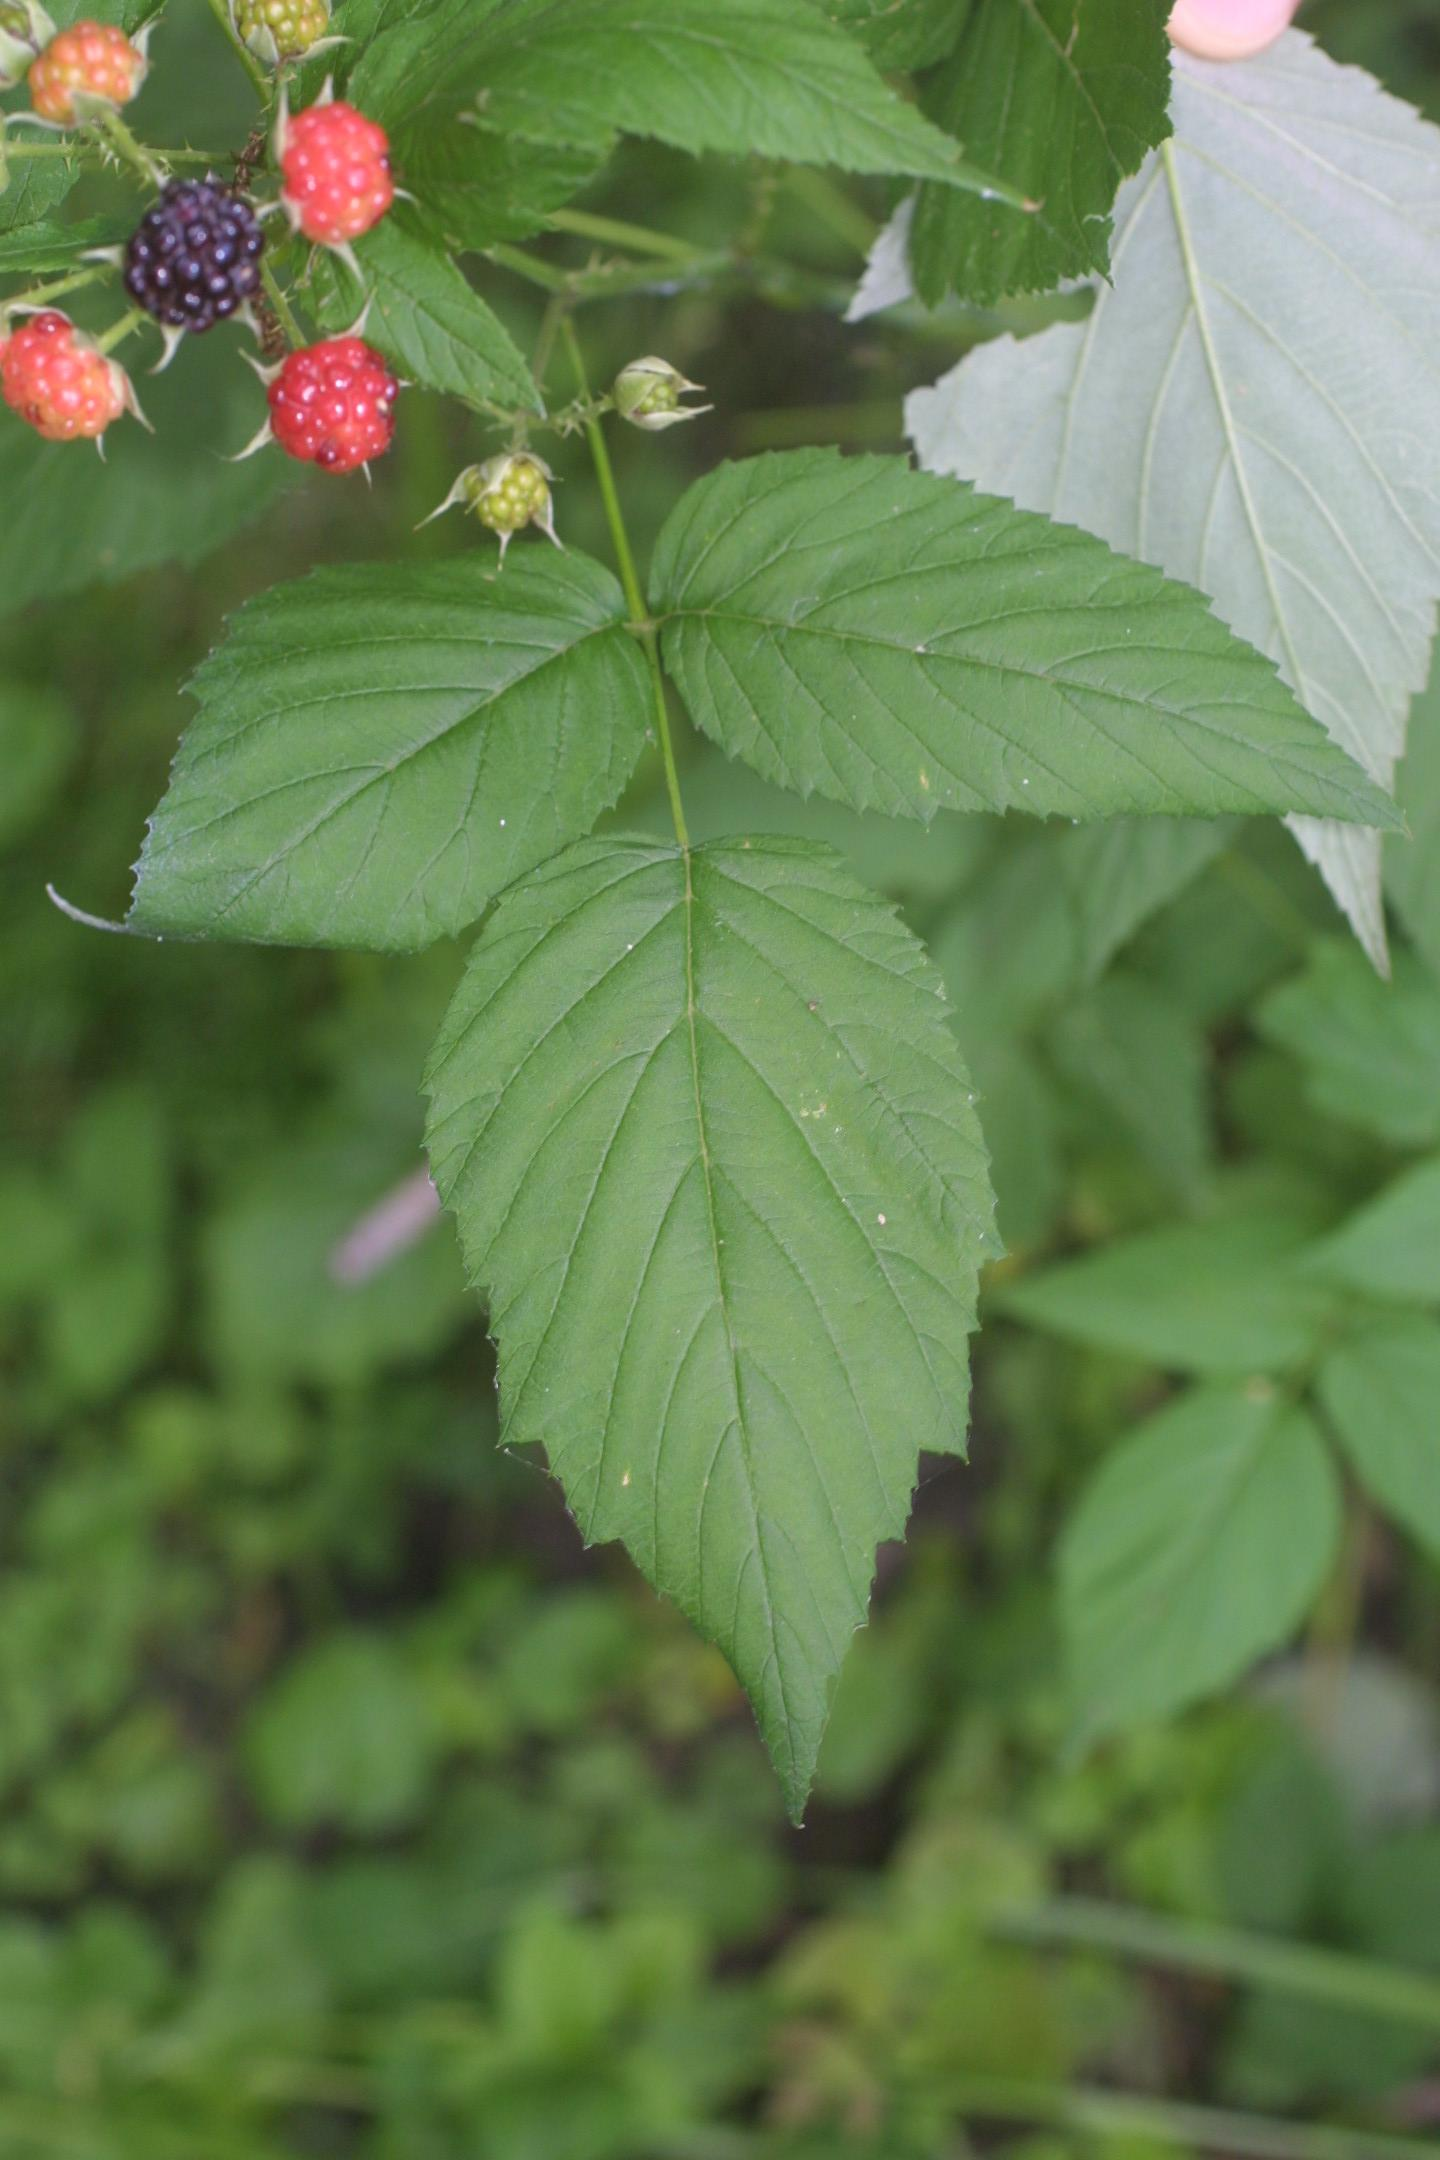Raspberry leaf: (439, 836, 1008, 1859), (635, 440, 1411, 829), (19, 532, 665, 966)
